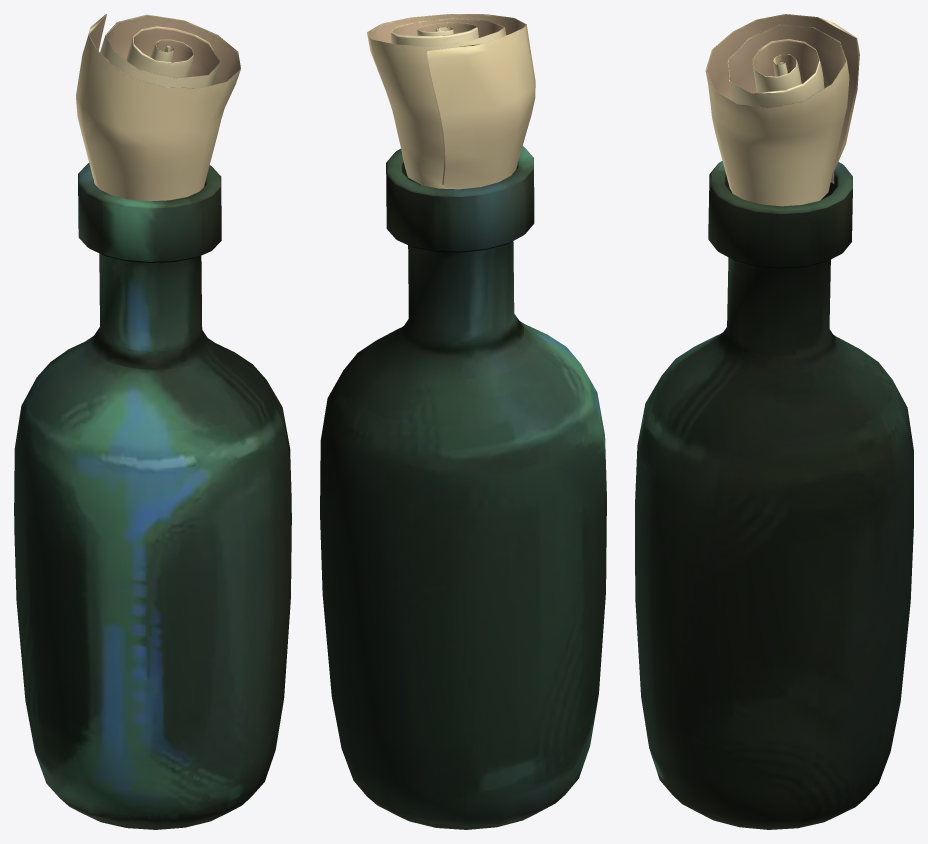
The model's file is bottle.glb.
The picture shows the model from 3 angles, left to right: view 1: azimuth 30°, elevation 25°; view 2: azimuth 150°, elevation 25°; view 3: azimuth 270°, elevation 25°; orthographic projection. The views are drawn at different scales.
Visible parts, largest first — view 1: B_Bottle; view 2: B_Bottle; view 3: B_Bottle.
Part boxes in pixels (x1,y1,x2,y2): B_Bottle: (14,14,291,829); B_Bottle: (320,14,606,829); B_Bottle: (635,14,913,829).
Size of what is drawn, in the model's own units: 0.4426 by 1.31 by 0.4362.
Materials: 1 (1 with a texture image).
